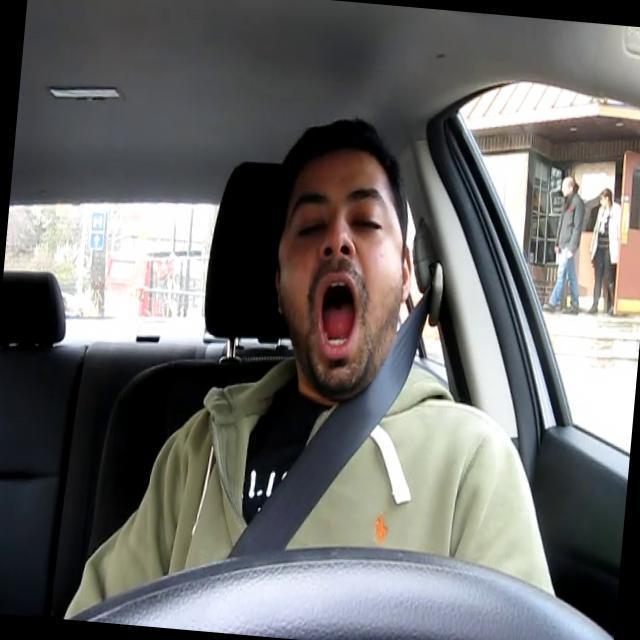open-mouth: (318, 272, 361, 360)
